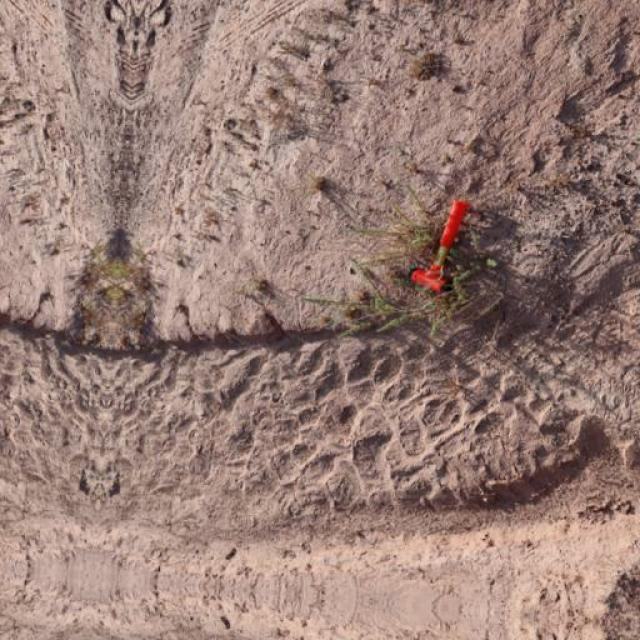mallet: (409, 198, 471, 294)
